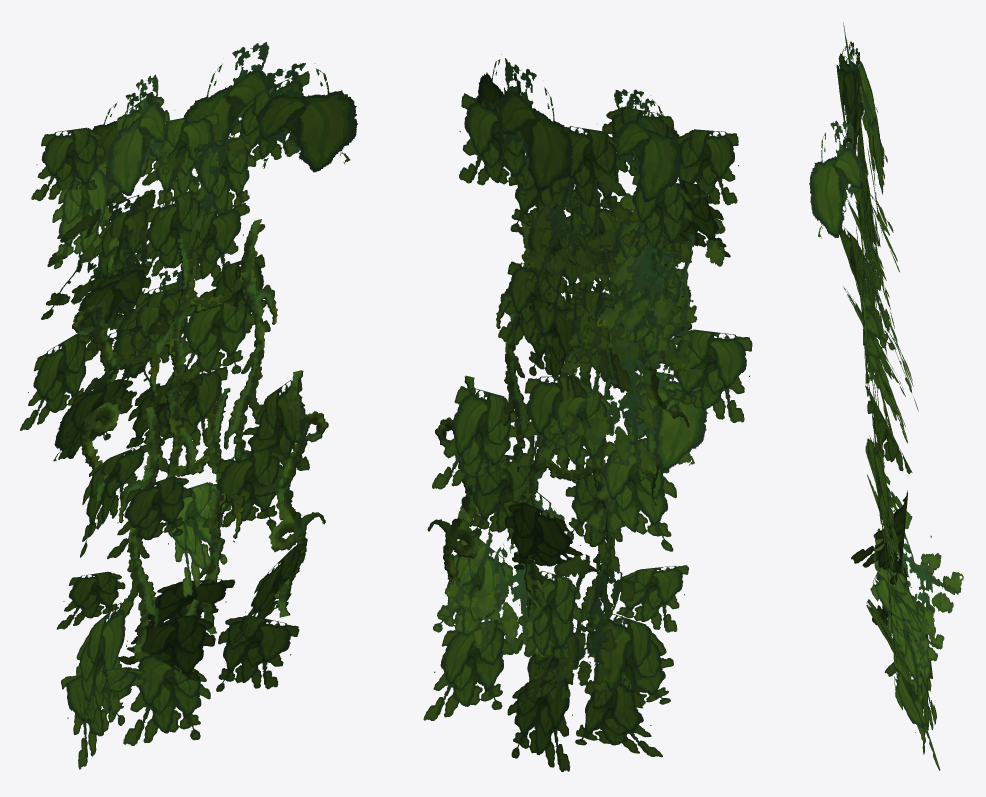
File: ivyclump3.fbx
3 renders of one model, left to right at view 1: azimuth 30°, elevation 25°; view 2: azimuth 150°, elevation 25°; view 3: azimuth 270°, elevation 25°, orthographic. The views are drawn at different scales.
Parts seen in each view (by area): view 1: ivywall3; view 2: ivywall3; view 3: ivywall3.
Boxes of the visible parts, box(x1,y1,x2,y2) form: ivywall3: box(20, 42, 357, 769); ivywall3: box(423, 54, 752, 771); ivywall3: box(809, 23, 963, 770).
Bounding box in the file's own units: 190 × 393 × 94.
